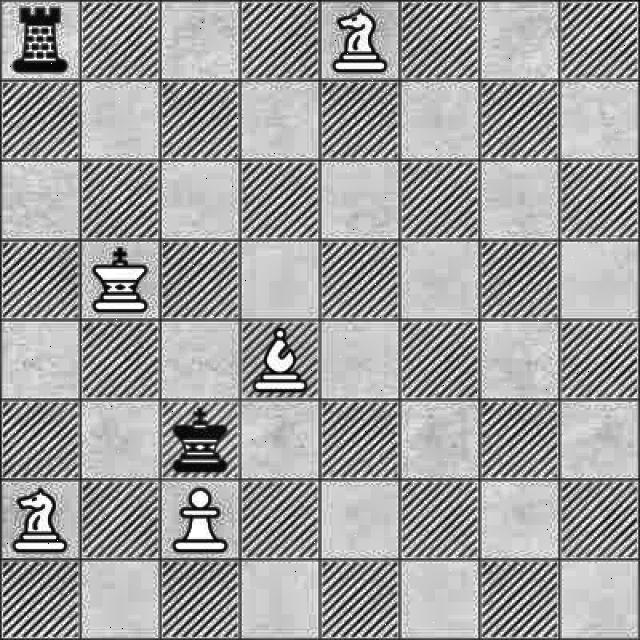black king: (163, 401, 238, 477)
black rook: (2, 6, 78, 78)
white bishop: (240, 321, 318, 398)
white king: (82, 246, 154, 314)
white pawn: (163, 481, 235, 558)
whiteknight: (325, 2, 395, 78), (5, 482, 72, 554)
